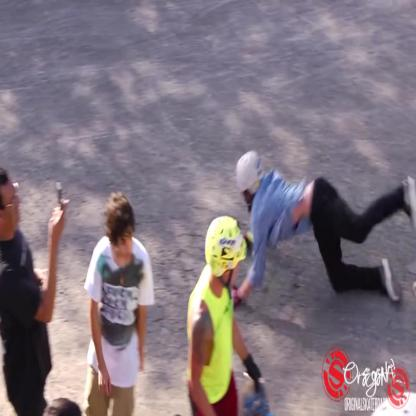Fall_Down: (228, 150, 415, 312)
